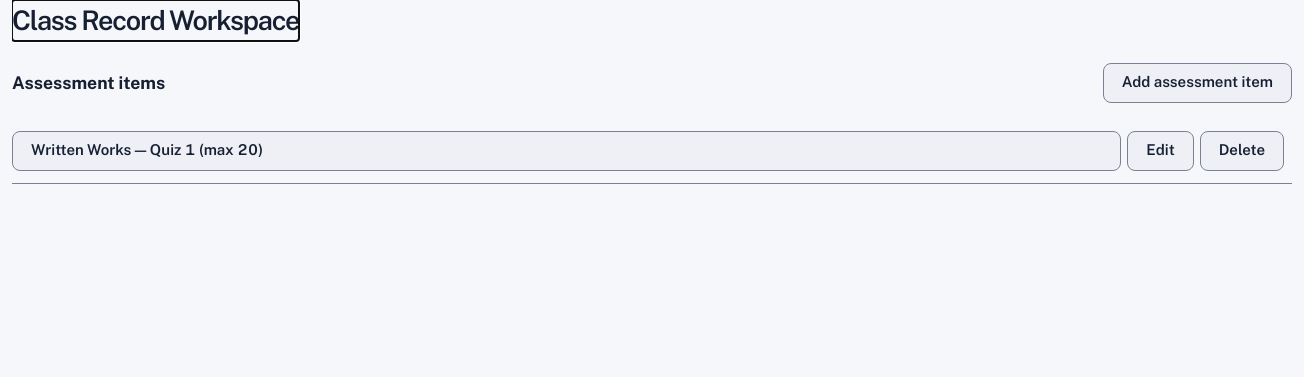
Test case: ClassRecordWorkspace › creates a new assessment item
Expected: the button "Written Works — Quiz 1 (max 20)" is shown, [12, 131, 1121, 171]
Click the button "Add assessment item" at (1197, 83), box [1103, 63, 1292, 103]
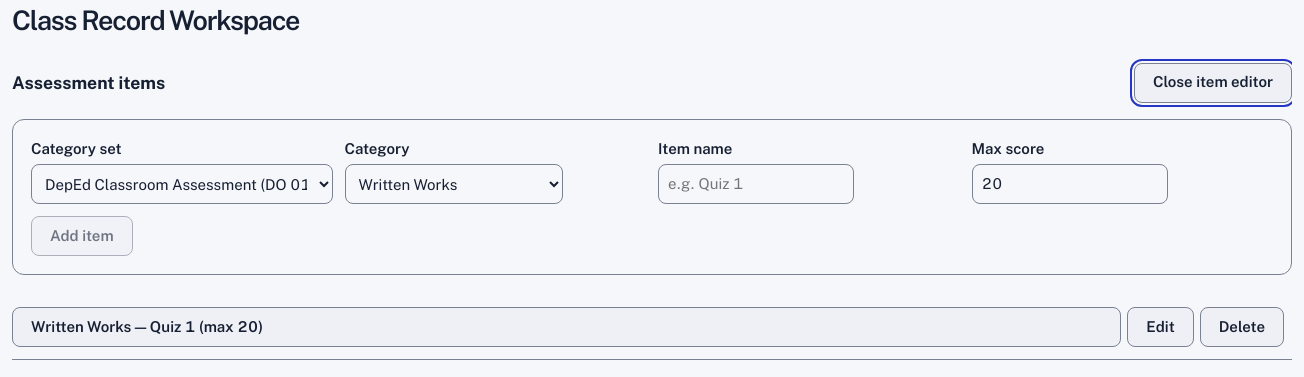
Type "Quiz 2" into the field labelled "Item name" at (756, 184), box [658, 164, 854, 204]
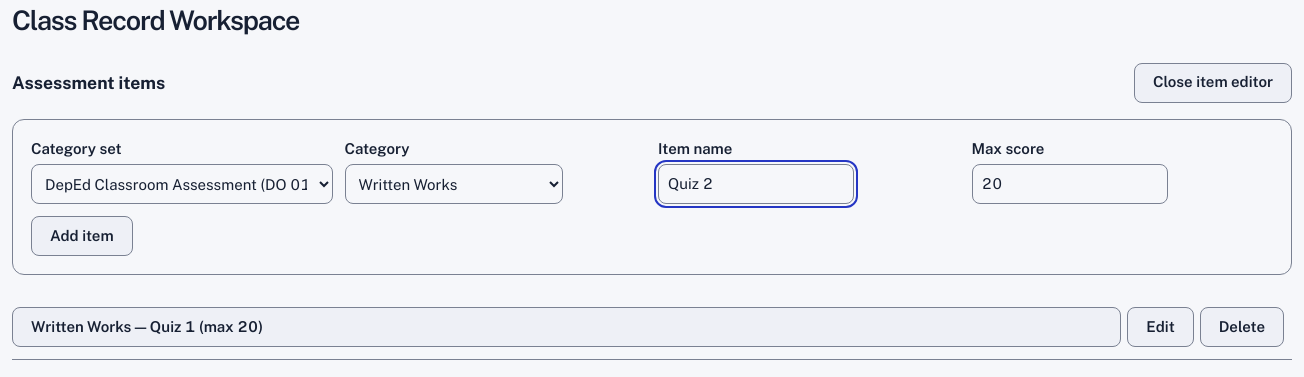
Replace the text in the number field labelled "Max score" with "10" at (1070, 184), box [972, 164, 1168, 204]
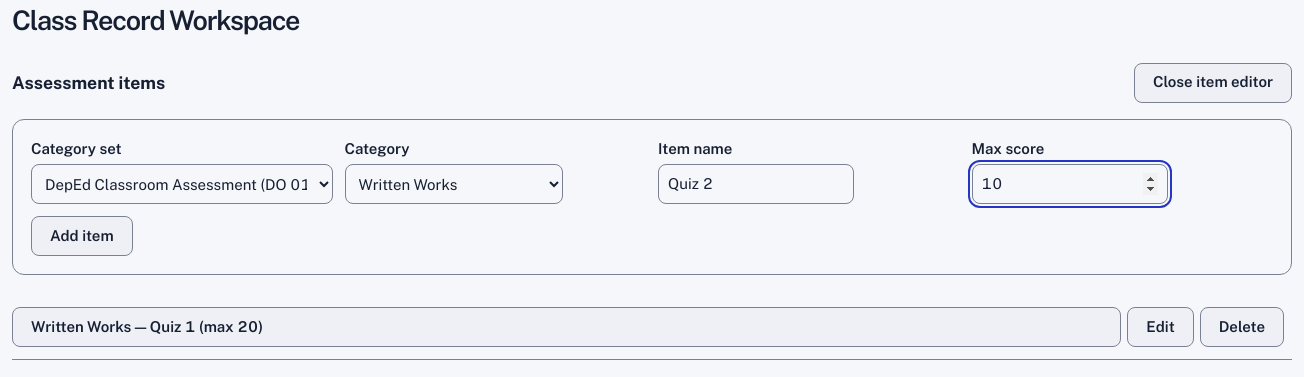
Click the button "Add item" at (82, 236), box [31, 216, 133, 256]
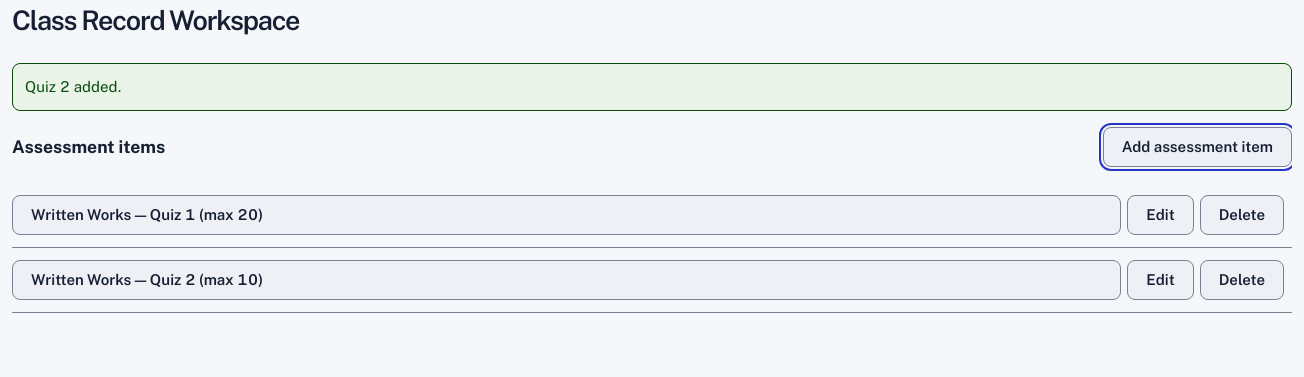
Result: the text "Quiz 2 added." is shown at [12, 63, 1292, 111]
